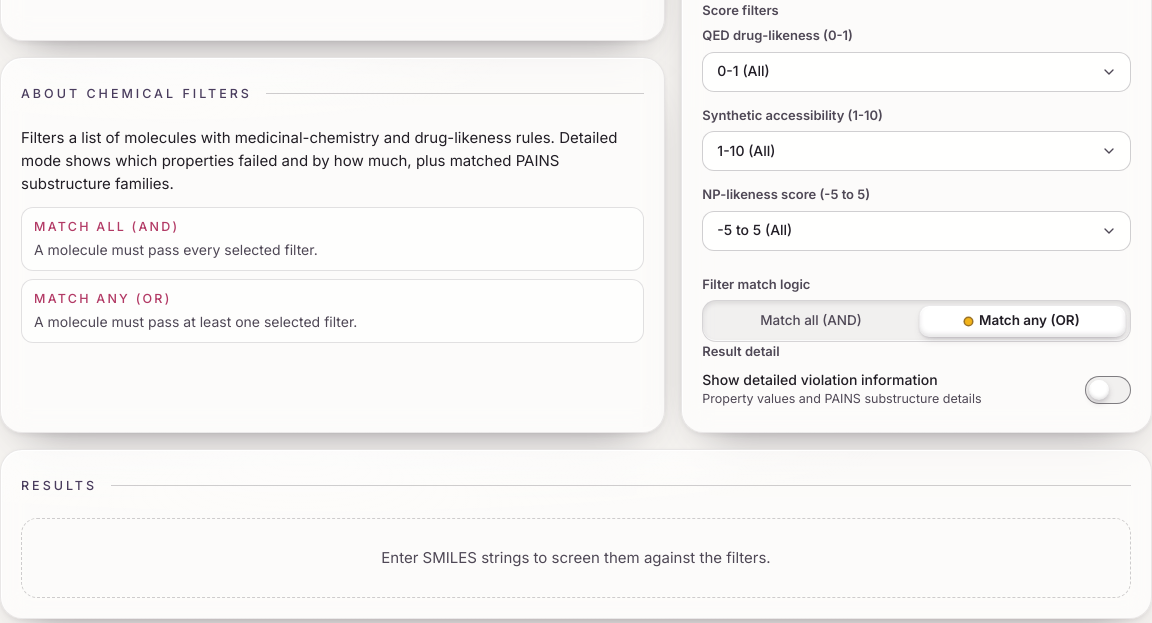
Test: AllFiltersView (bento) › shows the detailed breakdown when detailed mode is on
(page scrolled)
Step 1. Click the switch labelled "detailed violation" → {"x": 917, "y": 390}, box [702,368,1131,412]
(page scrolled)
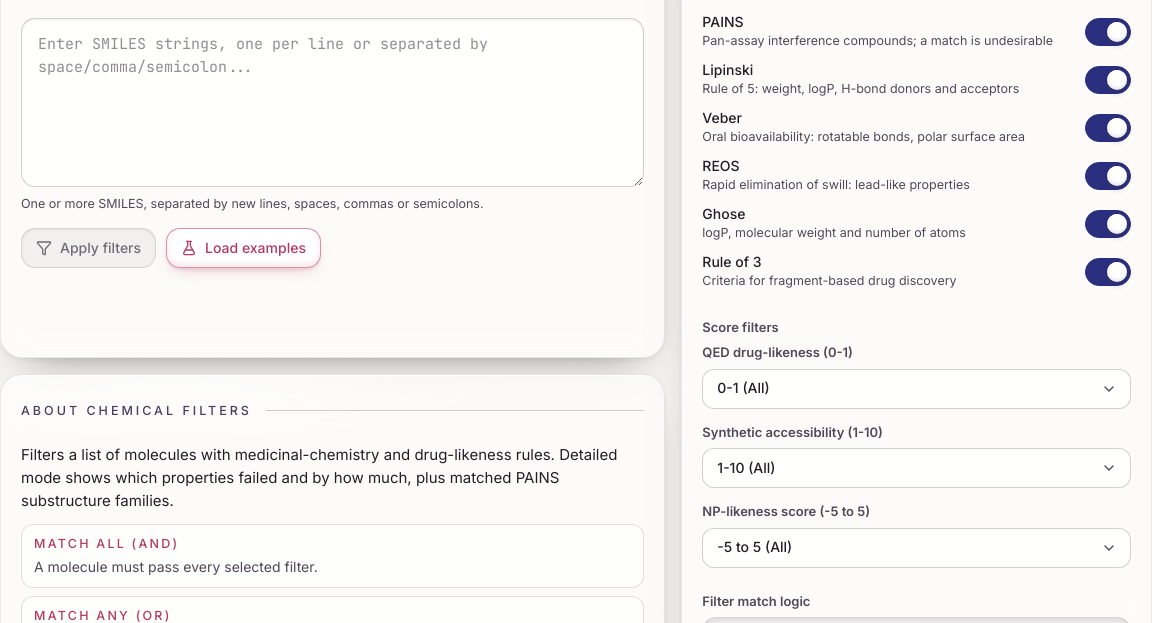
Step 2. Replace the text in the text box labelled "Molecule list (SMILES)" with "CCO" → {"x": 333, "y": 102}, box [21,18,644,187]
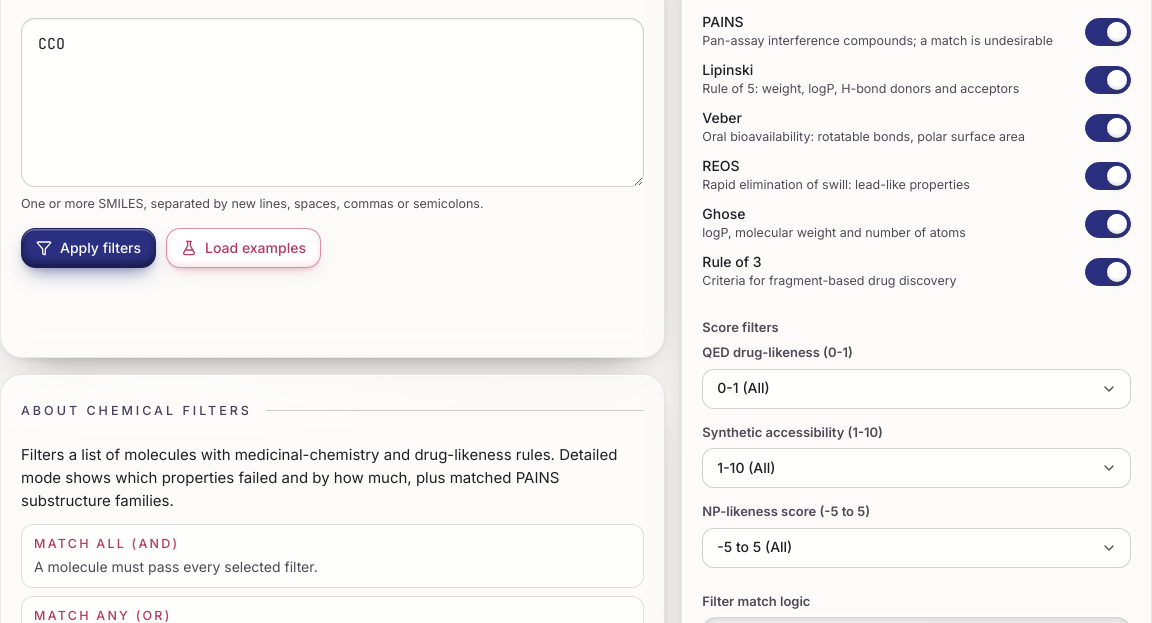
Step 3. Click the button "Apply filters" → {"x": 89, "y": 248}, box [21,228,156,268]
(page scrolled)
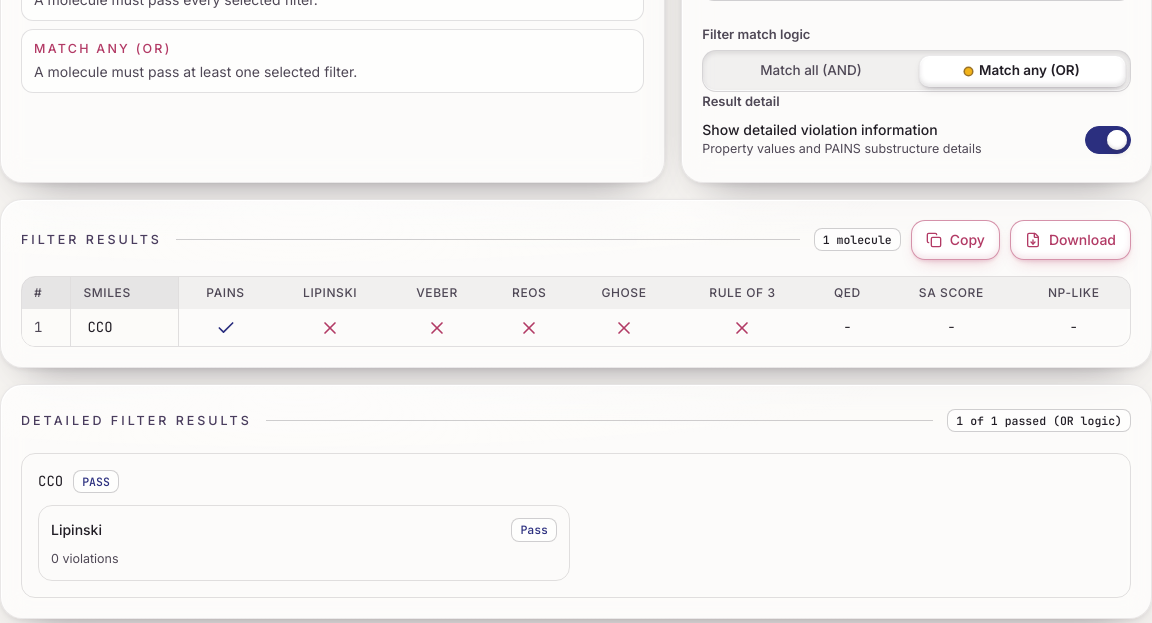
Result: the text "0 violations" is shown at [51,551,119,566]
